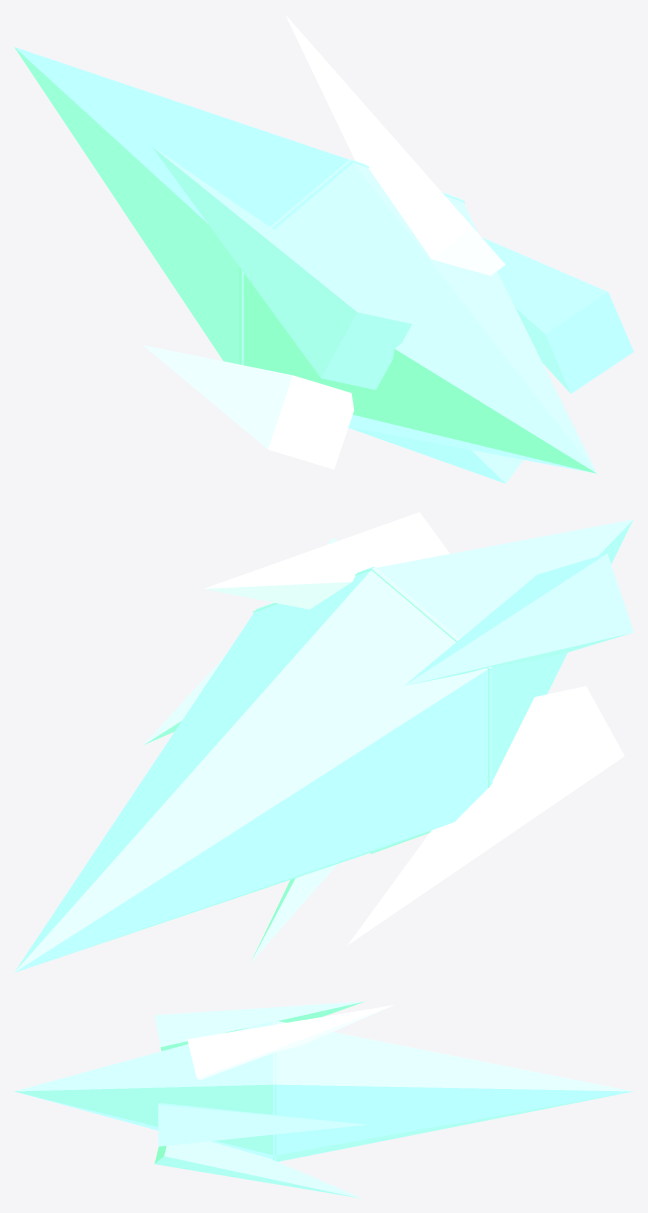
File: nave_rame.glb
3 renders of one model, top to bottom at view 1: azimuth 30°, elevation 25°; view 2: azimuth 150°, elevation 25°; view 3: azimuth 270°, elevation 25°, orthographic. The views are drawn at different scales.
Parts seen in each view (by area): view 1: nave_rame; view 2: nave_rame; view 3: nave_rame.
Part boxes in pixels (left/top/right/bottom): nave_rame: left=14, top=15, right=633, bottom=483; nave_rame: left=14, top=512, right=633, bottom=972; nave_rame: left=14, top=1001, right=633, bottom=1198.
Bounding box in the file's own units: 0.3116 × 0.332 × 0.945.
